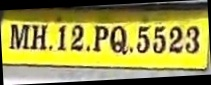character: (9, 22, 30, 50), (109, 25, 128, 55), (30, 24, 47, 50), (93, 24, 108, 52), (168, 25, 183, 53), (152, 25, 166, 54), (185, 25, 199, 54), (136, 24, 149, 54), (70, 24, 83, 52), (56, 24, 66, 51)
